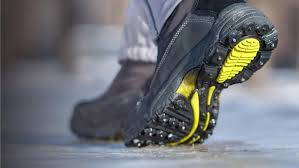Shoes: (138, 2, 280, 145)
